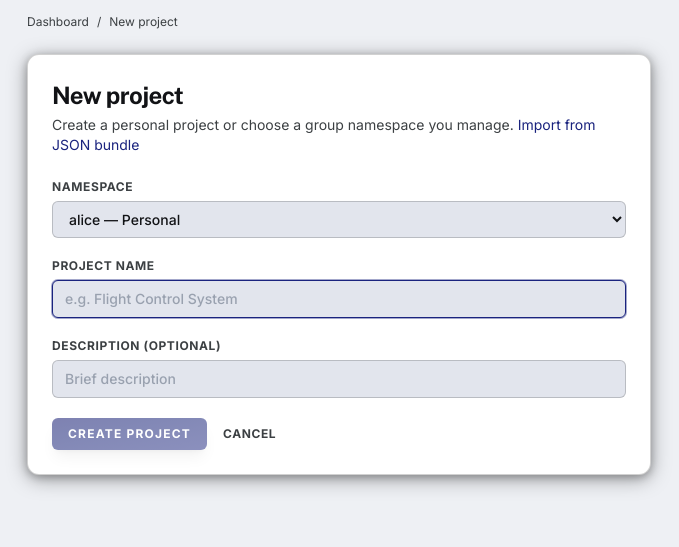
Test: ProjectCreatePage › re-enables submission when project creation fails
In the field labelled "Project name": x=339, y=299 [52,280,626,318], type "Autopilot"
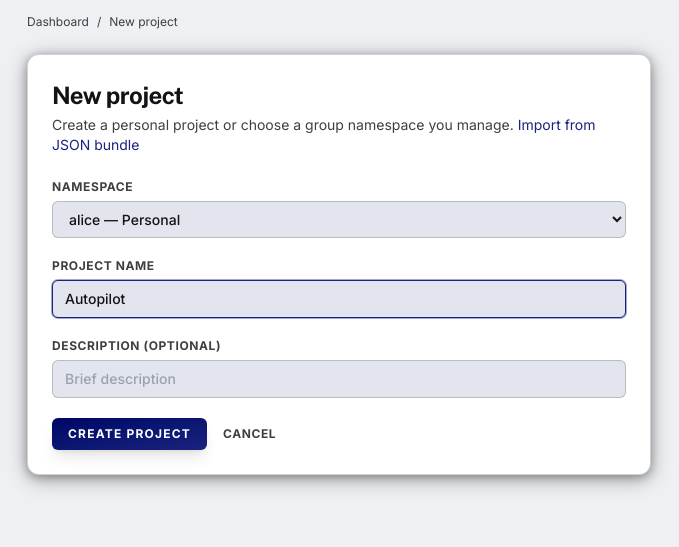
Click the button "Create project": x=130, y=434 [52,418,207,450]
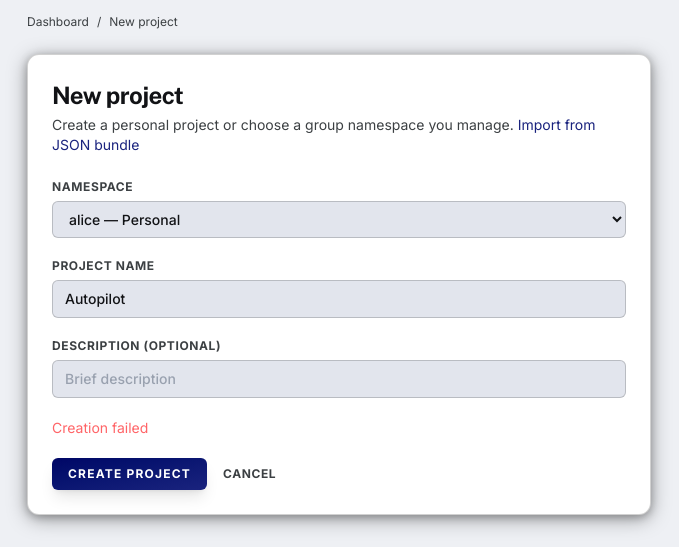
Result: the button "Create project" is enabled at [52,458,207,490]
Result: the message reads "Creation failed" at [52,419,148,436]
